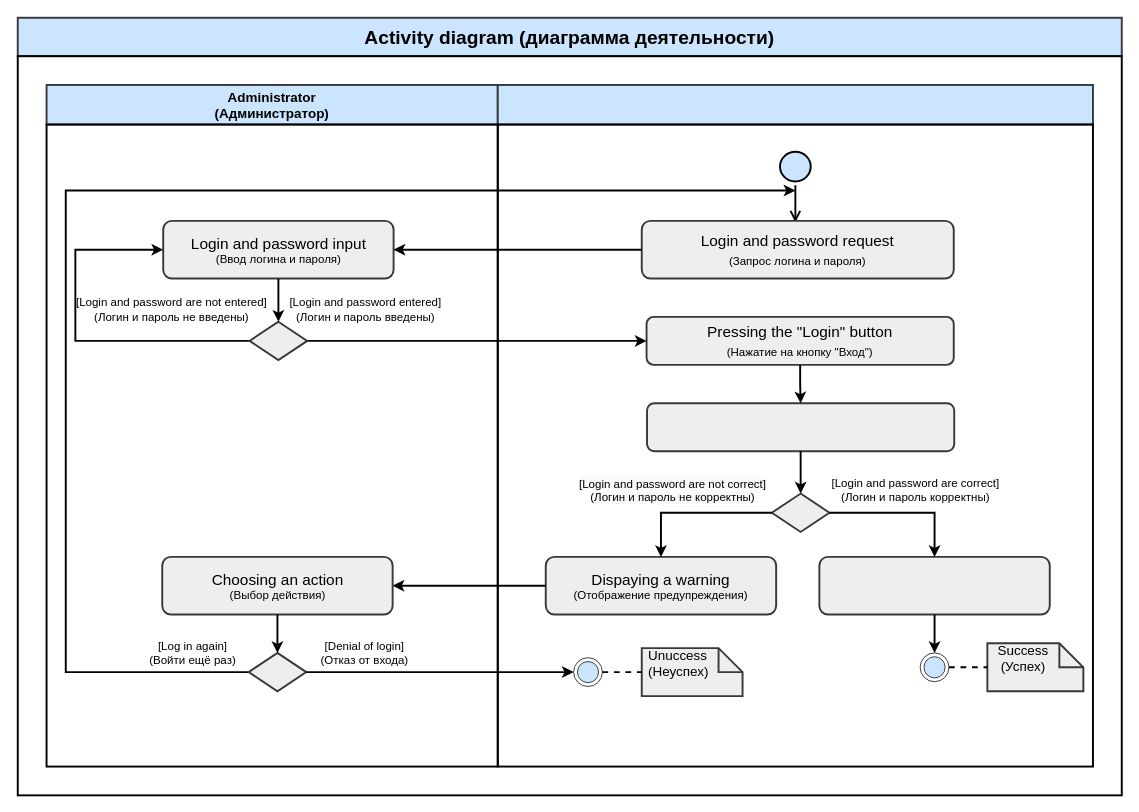
Image size: 1139x812. Some labels were removed from this diagram. Here are the shapes that lost their labels. From the top down, the centre of each, then its label:
At pixel 794 104: "Authorization system (Система авторизации)".
At pixel 800 427: "Validating login and password (Проверка логина и пароля)".
At pixel 934 585: "Dispaying the main admin page (Отображение главной страницы администратора)".
